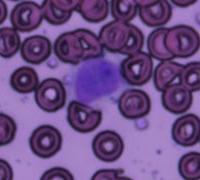L: (68, 56, 123, 107)
